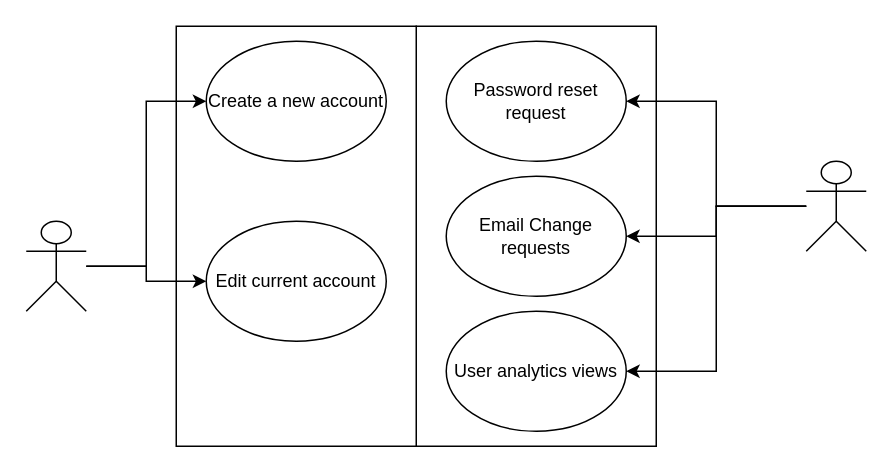
Image size: 893x473. Some labels were removed from this diagram. The shapes that lost their labels are listed below. From the top down, each one's box as (x1, y1, x2, y2) in pixels, then its label:
(805, 160, 866, 251): Admin
(25, 220, 86, 311): User
